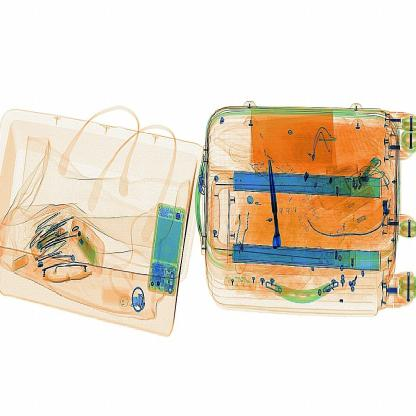gun: (252, 137, 291, 254)
